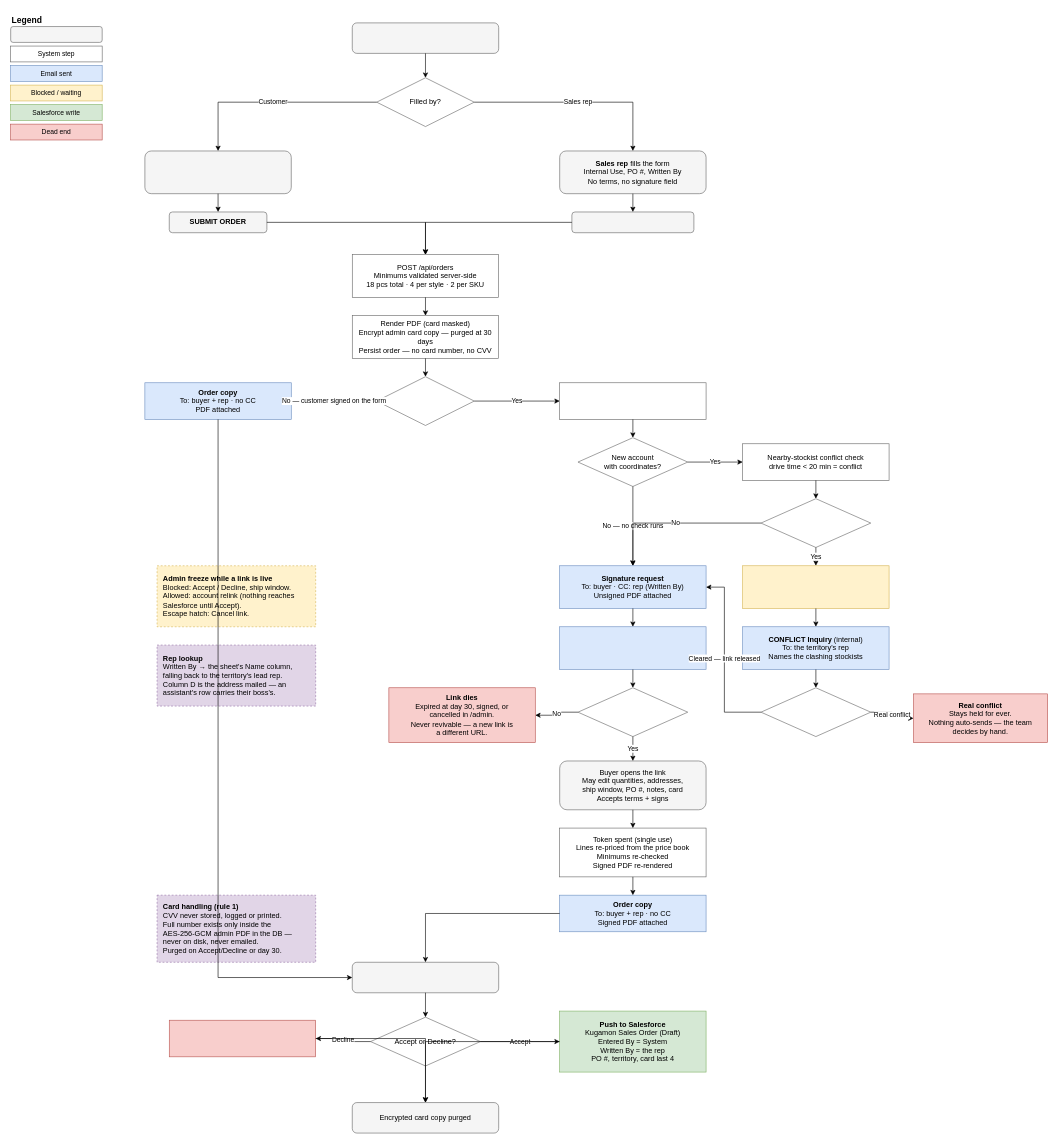
This 1058x1144 diagram has some shape labels left out. Here are the shapes that lost their labels. From the top down, the box of each, then its label:
(10, 26, 102, 42): Buyer / rep action
(352, 22, 499, 53): Order form opened order.wooden-ships.com
(144, 150, 291, 194): Customer fills the form Terms & Conditions shown Types their own signature
(571, 211, 694, 233): SEND TO CUSTOMER FOR SIGNATURE
(376, 376, 474, 425): Rep-filled?
(559, 382, 706, 419): Mint signing token random, single-use, expires in 30 days
(760, 498, 871, 547): Conflict found?
(742, 565, 889, 608): Signing link HELD /admin: “Held — conflict outstanding” No request, no reminders
(559, 626, 706, 669): Still unsigned? Auto-chase on day 2 · 5 · 15 · 22 · 29 (same link, same email)
(577, 687, 688, 737): Buyer signs?
(760, 687, 871, 737): Rep's verdict
(352, 962, 499, 993): /admin — team reviews the order
(169, 1020, 316, 1057): Declined (nothing reaches Salesforce)
